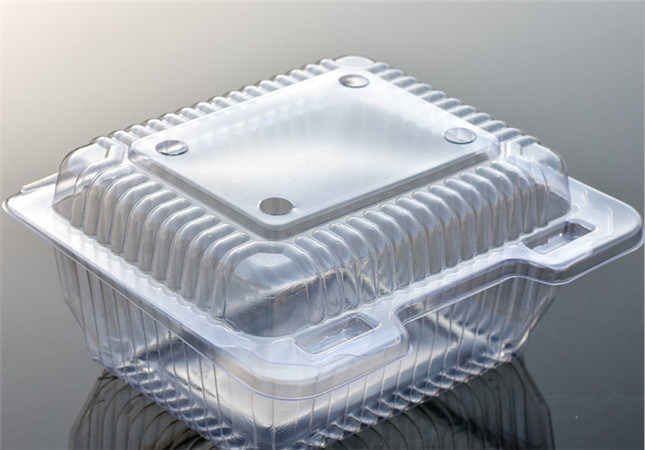plastic: (1, 52, 645, 450)
